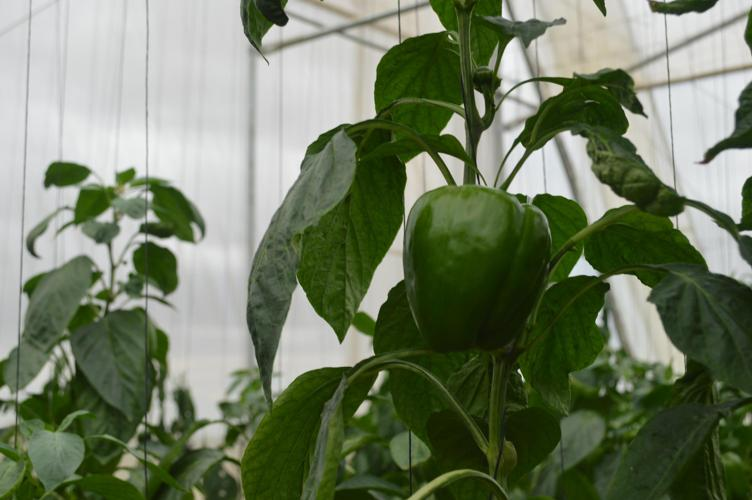BellPepper: (387, 176, 561, 365)
